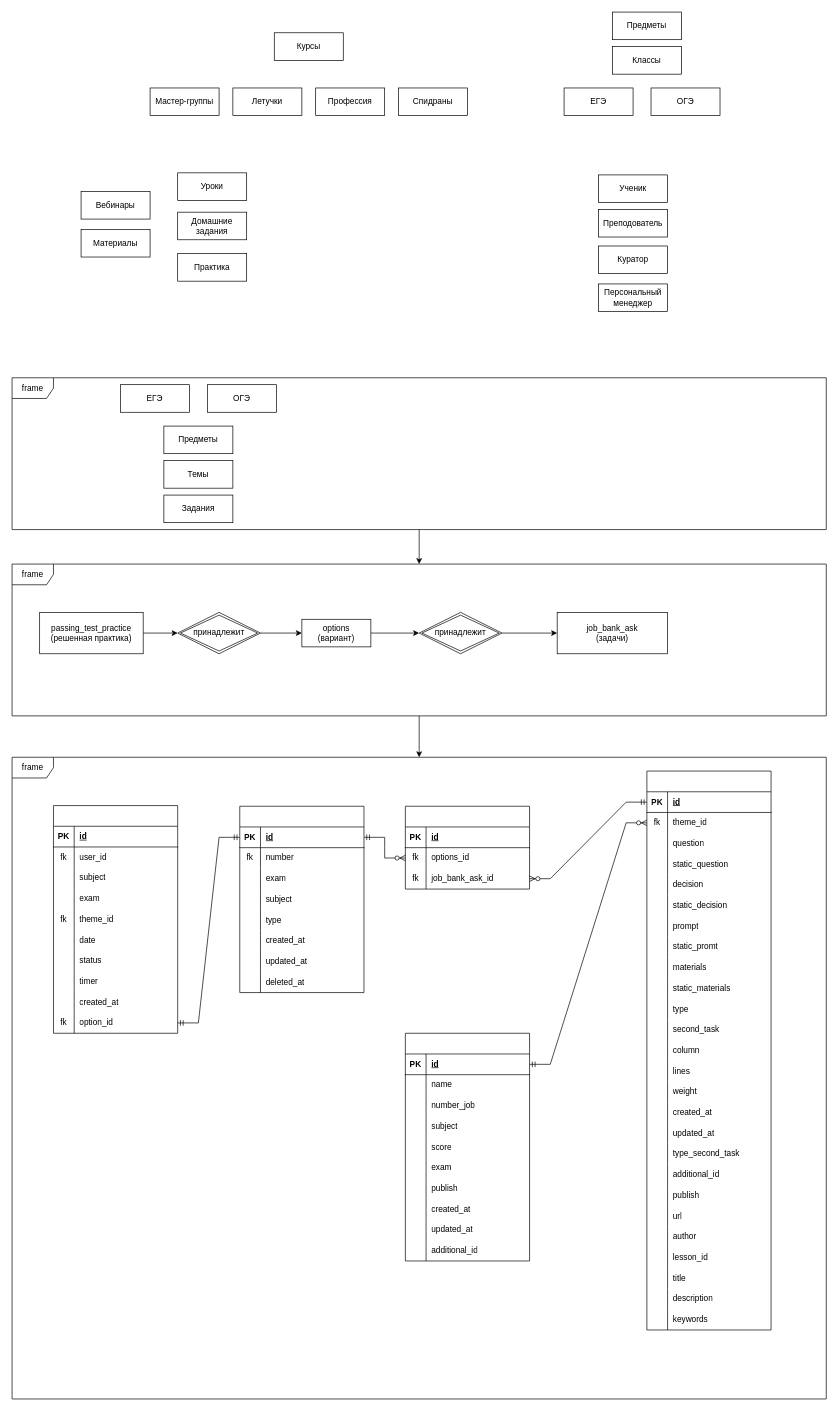
Some shapes in this 838 by 1411 pixel diagram are drawn without their labels. Here are the shapes that lost their labels. From the top down, the box of each, then its label:
(405, 806, 530, 889): option_questions
(53, 805, 178, 1033): passing_test_practice
(239, 806, 364, 993): options
(646, 770, 771, 1330): job_bank_ask
(405, 1033, 530, 1261): job_bank_theme
